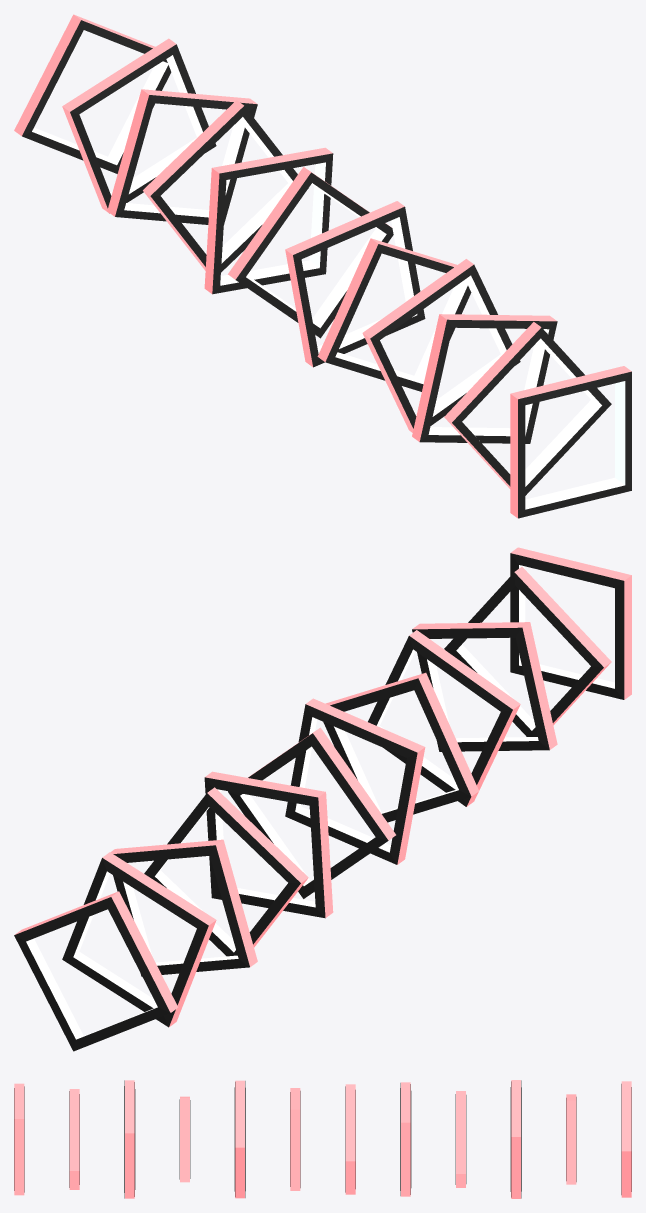
Rendered from Moving boxes export 3.fbx.
The picture shows the model from 3 angles, top to bottom: view 1: azimuth 30°, elevation 25°; view 2: azimuth 150°, elevation 25°; view 3: azimuth 270°, elevation 25°; orthographic projection. The views are drawn at different scales.
Parts seen in each view (by area): view 1: Moving boxes; view 2: Moving boxes; view 3: Moving boxes.
Part boxes in pixels (bbox=[...]): Moving boxes: bbox=[14, 14, 631, 518]; Moving boxes: bbox=[14, 547, 631, 1051]; Moving boxes: bbox=[14, 1080, 631, 1198].
Bounding box in the file's own units: 565 × 565 × 2938.
